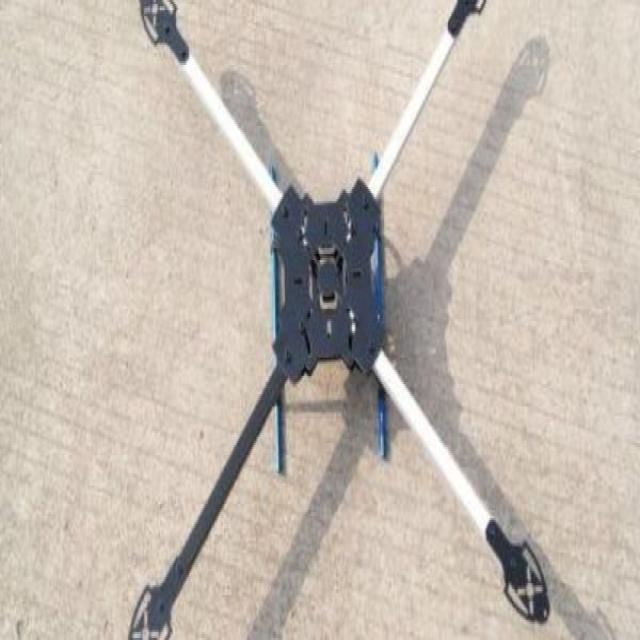drone: (59, 0, 561, 640)
